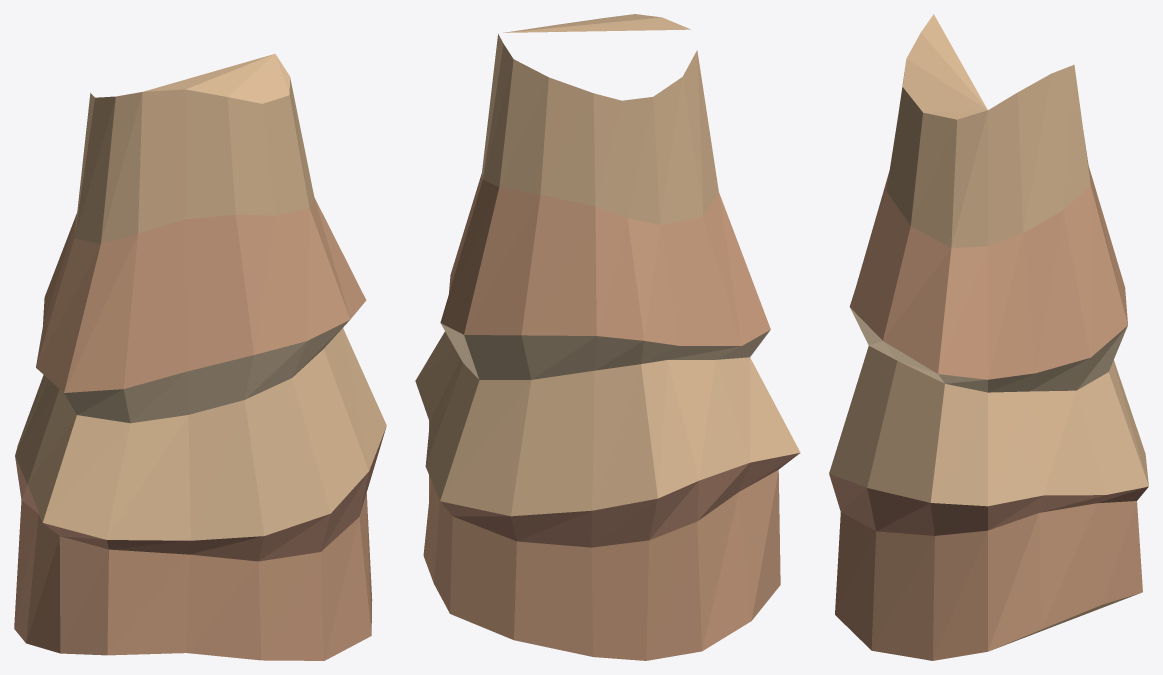
The picture shows the model from 3 angles, left to right: view 1: azimuth 30°, elevation 25°; view 2: azimuth 150°, elevation 25°; view 3: azimuth 270°, elevation 25°; orthographic projection. The views are drawn at different scales.
Size of the model in its own units: 13.65 by 20.97 by 11.16.
